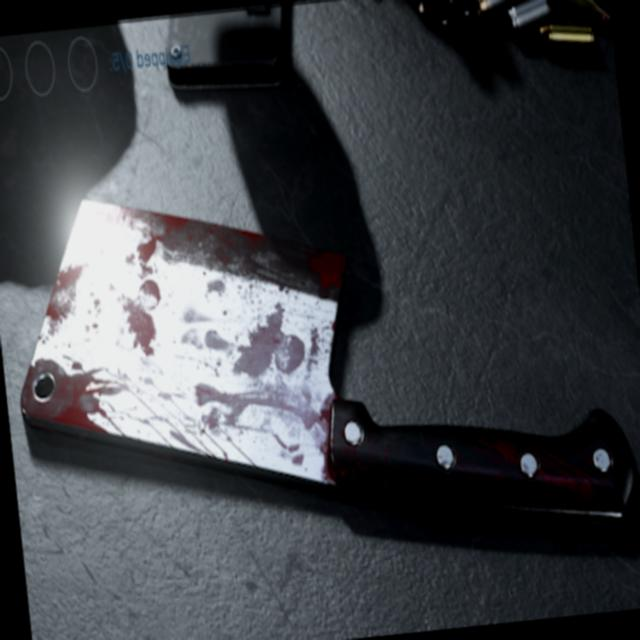cleaver: (3, 149, 640, 607)
